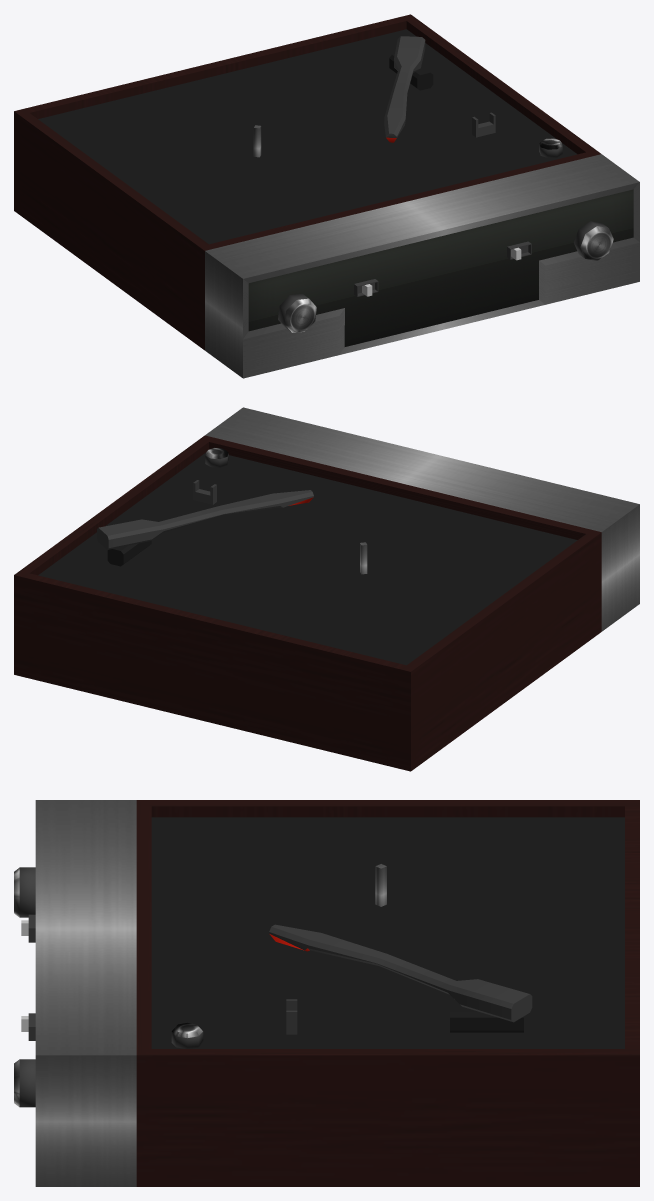
File: Turntable.FBX
3 renders of one model, top to bottom at view 1: azimuth 30°, elevation 25°; view 2: azimuth 150°, elevation 25°; view 3: azimuth 270°, elevation 25°, orthographic. The views are drawn at different scales.
Visible parts, largest first — view 1: Turntable; view 2: Turntable; view 3: Turntable.
Part boxes in pixels (x1,y1,x2,y2): Turntable: [14, 14, 639, 378]; Turntable: [14, 407, 639, 771]; Turntable: [14, 800, 639, 1186].
Size of the model in its own units: 144 by 42.47 by 150.
